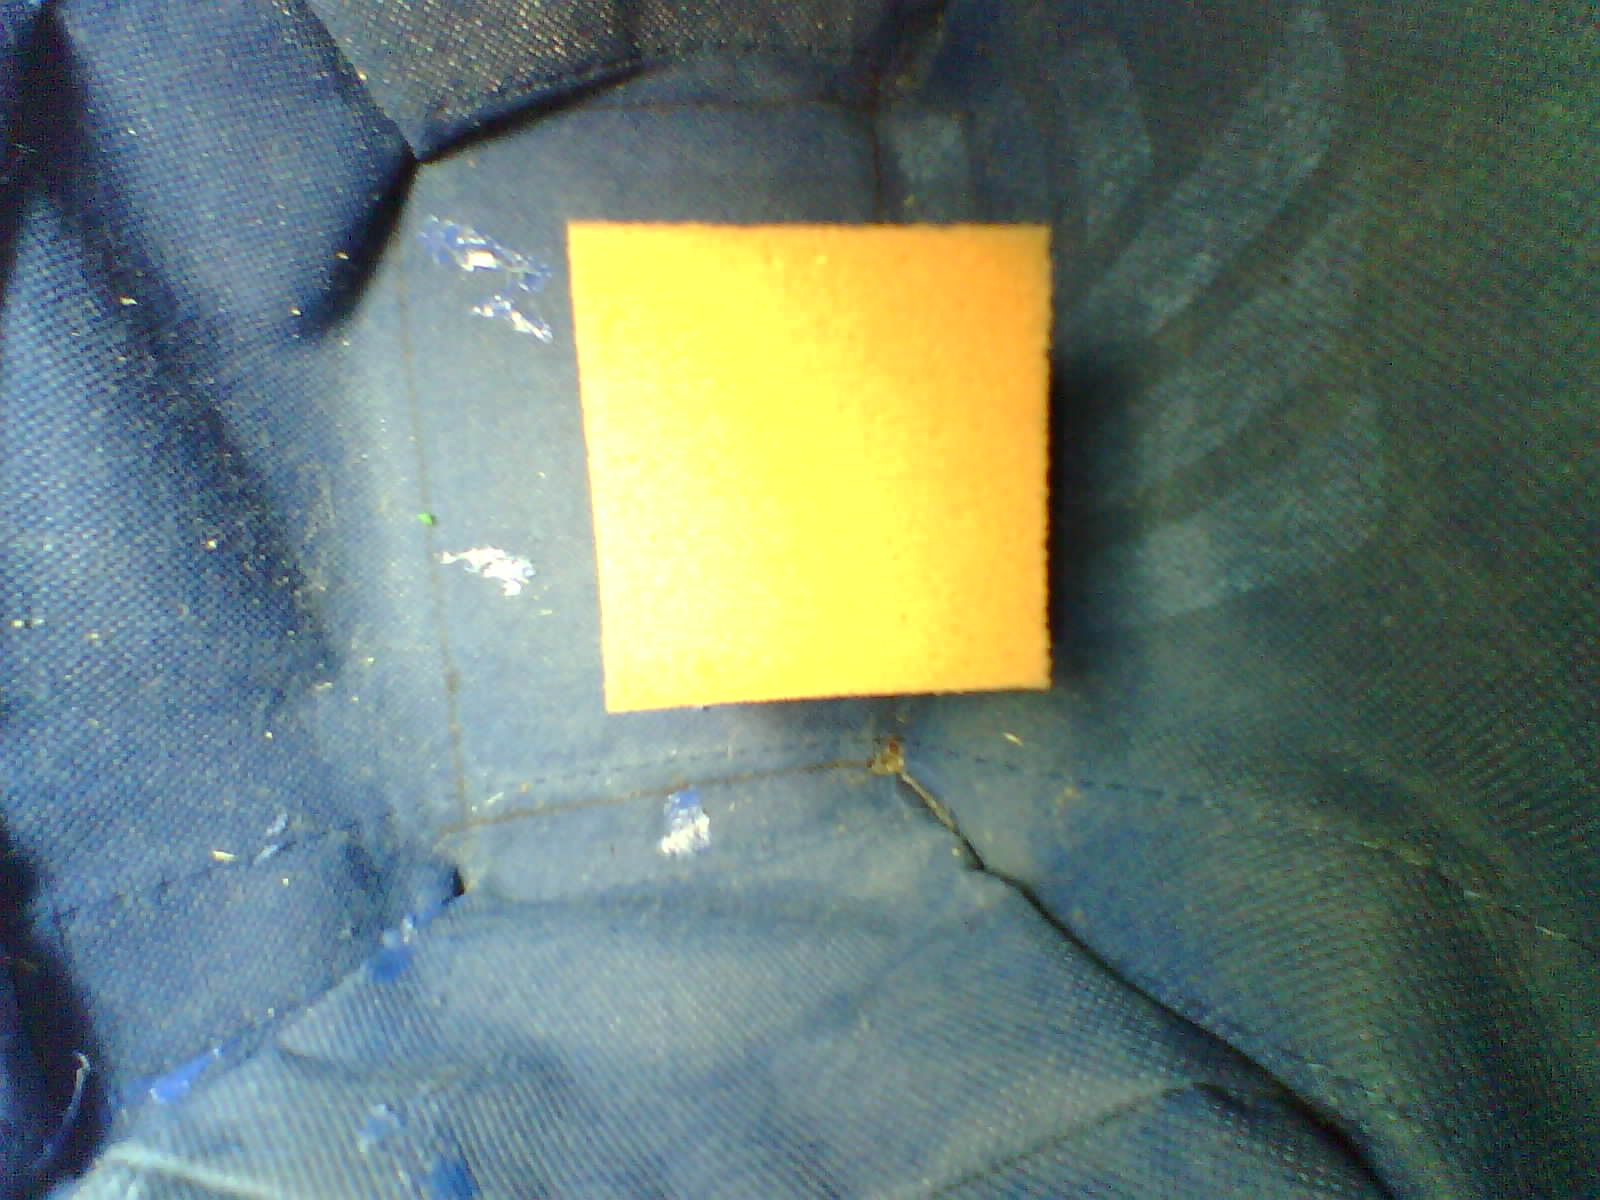cube-soft: (548, 182, 1068, 722)
